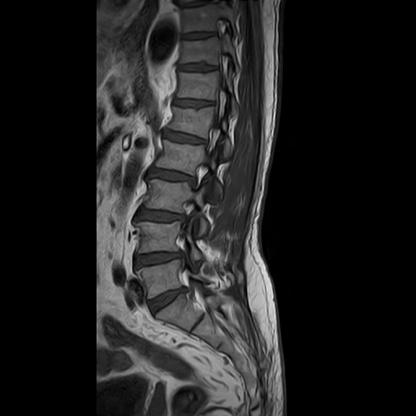Annular Disc Relaxationrotation: (148, 167, 196, 190), (162, 129, 207, 149)
Disc Bulgerotation: (146, 289, 191, 311), (134, 250, 183, 270)
